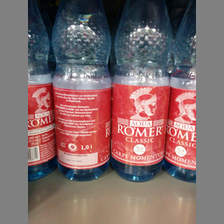water: (112, 1, 173, 182), (52, 1, 112, 182), (160, 1, 196, 182), (28, 1, 56, 184)
